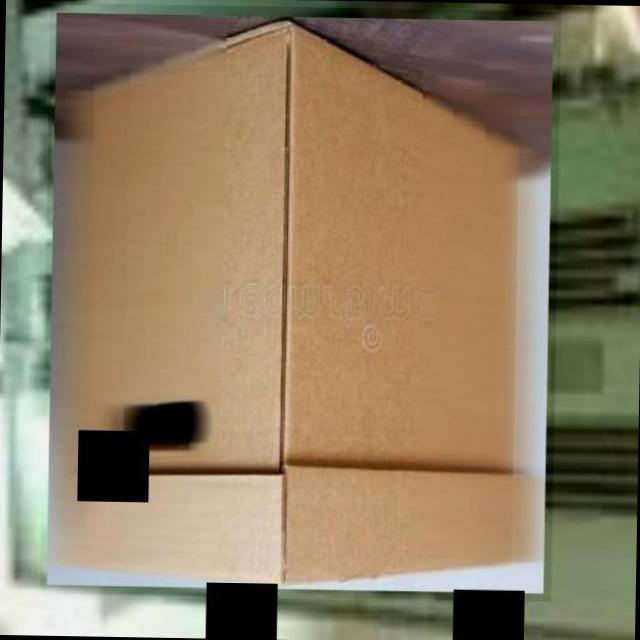box: (40, 2, 561, 601)
